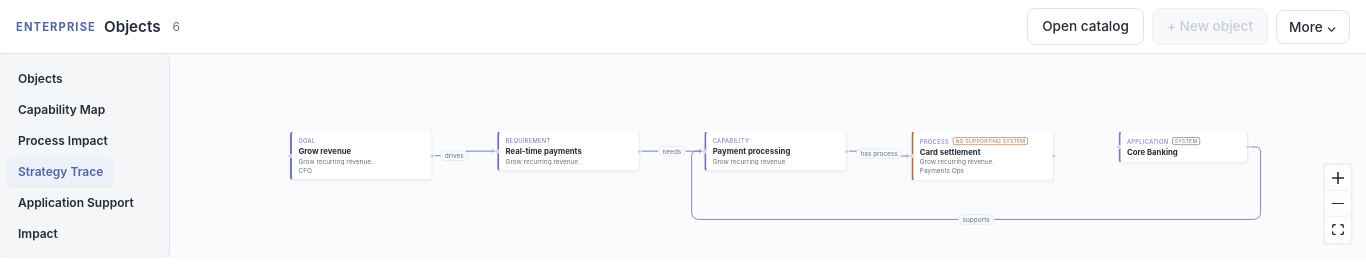
EnterpriseWorkbench › keeps the current state read-only
The width and height of the screenshot is (1366, 275).
Expected: the text "Grow revenue" is shown, left=298, top=146, right=351, bottom=156
Expected: the button "+ New object" is disabled, left=1152, top=8, right=1268, bottom=45
What coordinates should you click on to do the following:
click the button with aria-label "More actions"
I would click on:
 (1313, 26)
Its box is left=1276, top=10, right=1350, bottom=44.
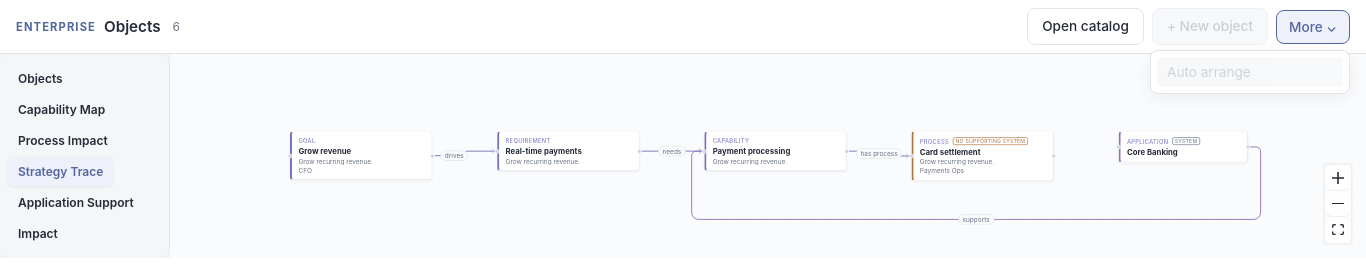
Now the button "Auto arrange" is disabled, box left=1157, top=56, right=1343, bottom=86
